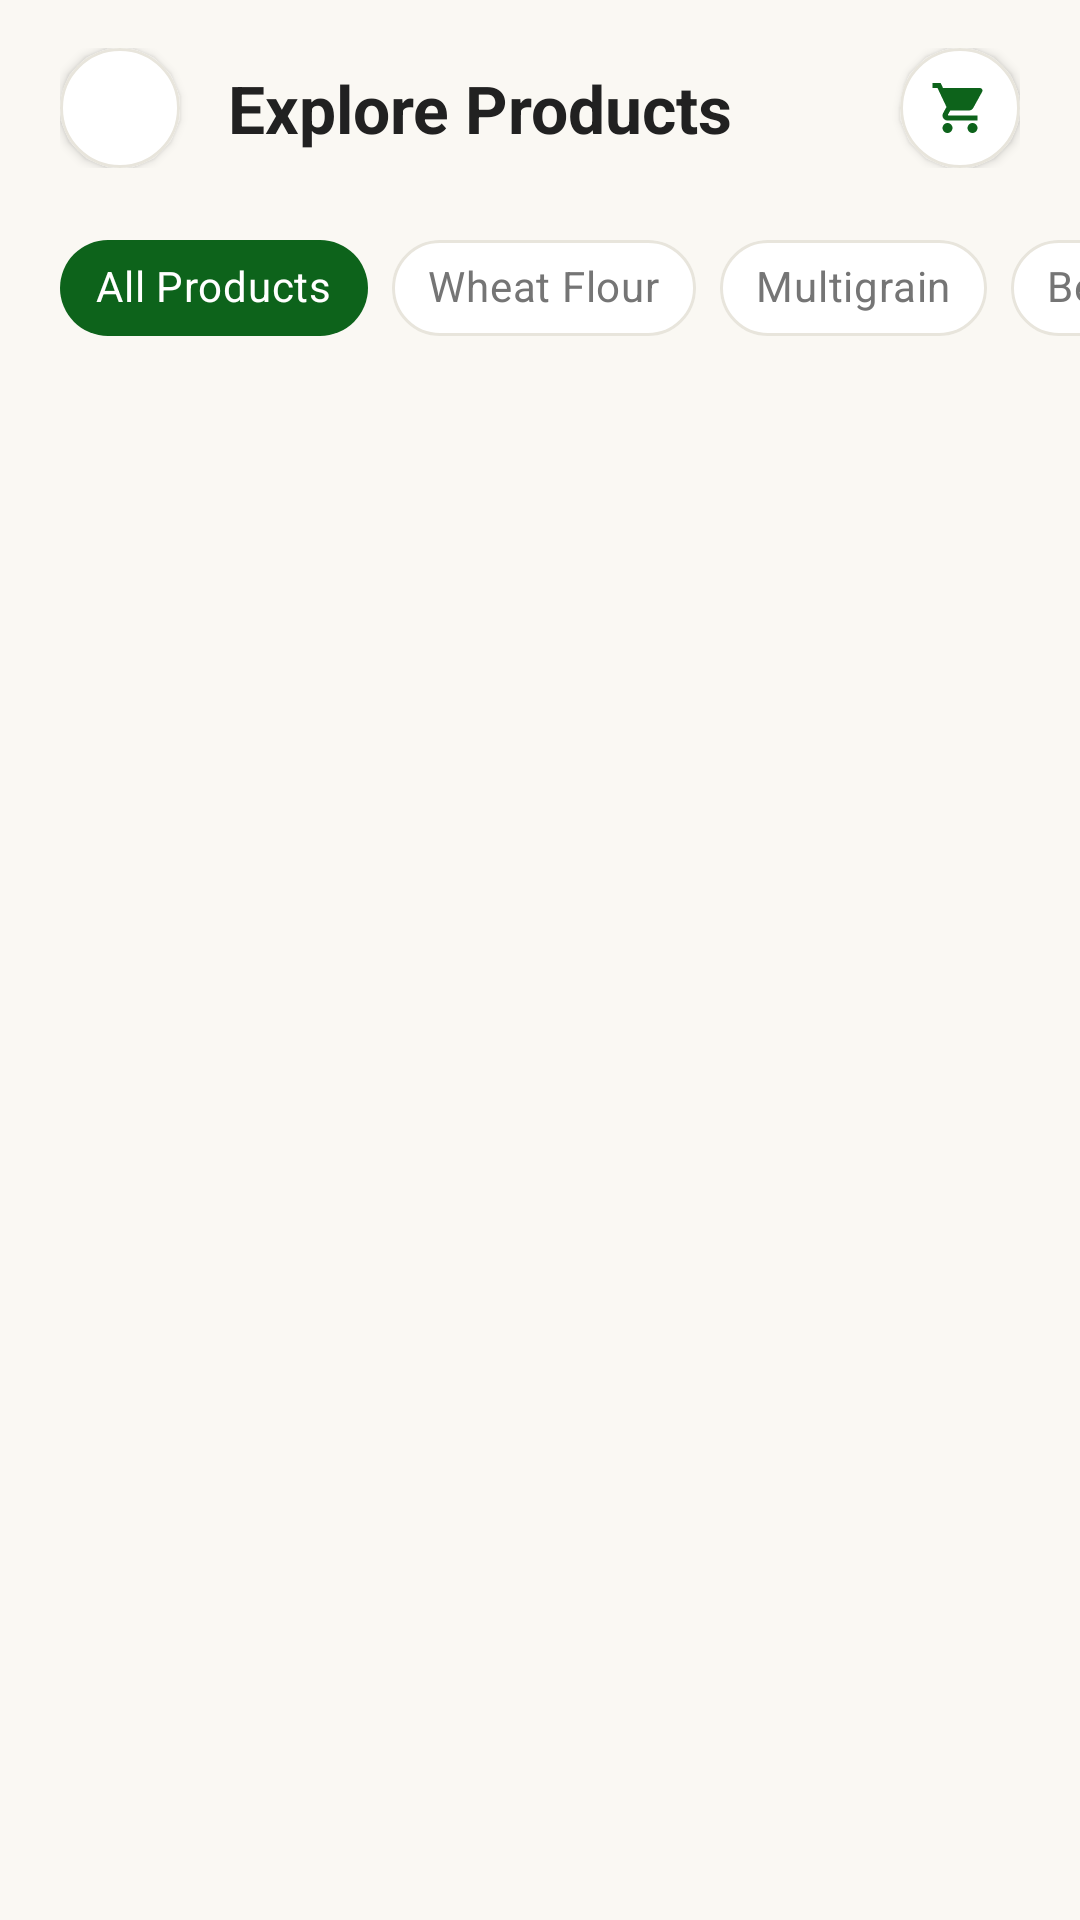

Locate icon controls on the screen. Image size 1080w x 1920h, boxes as (x1, y1, x2, y2).
Cart: (900, 48, 1020, 168)
